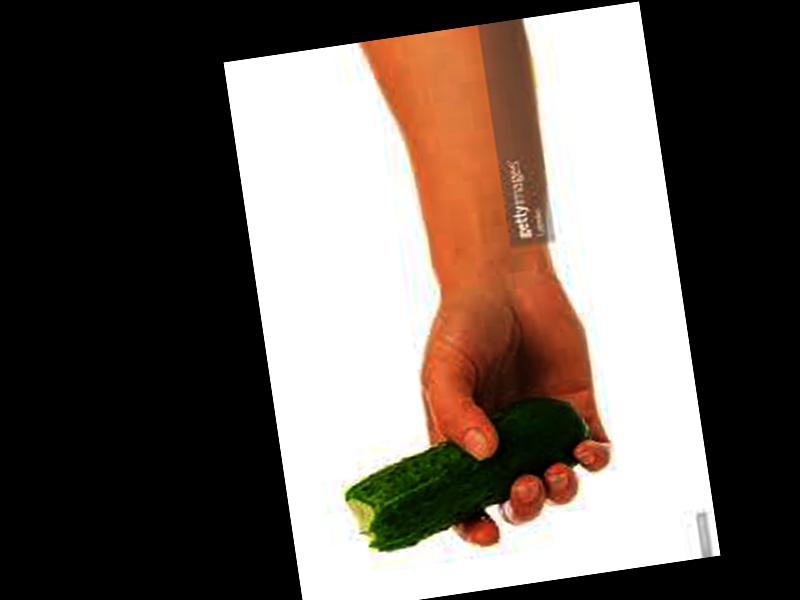Cucumber: (335, 392, 599, 555)
